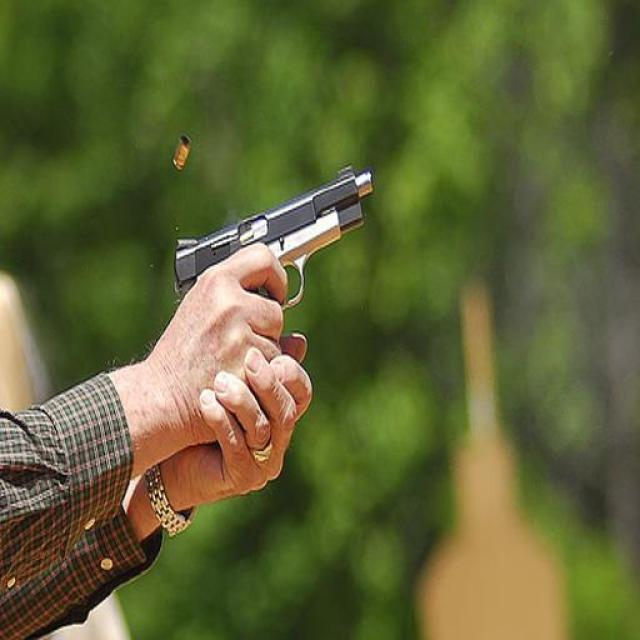pistol: (171, 158, 371, 313)
